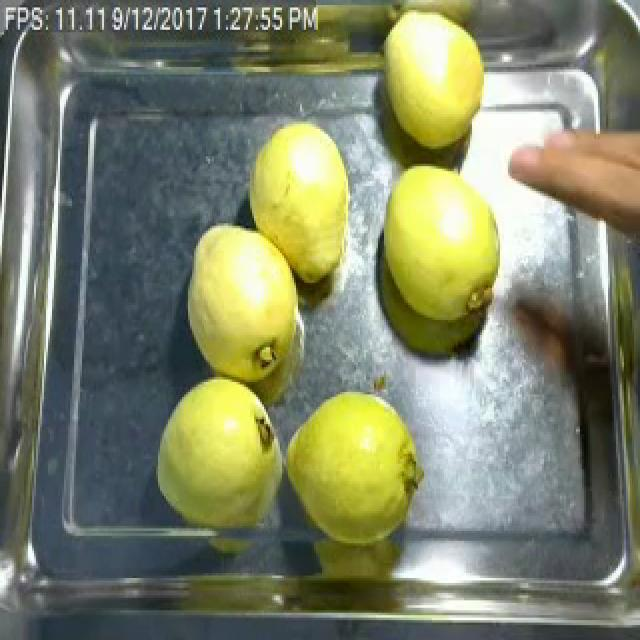Fruit: (278, 380, 430, 553), (372, 152, 514, 328), (148, 370, 292, 540), (178, 213, 308, 392), (240, 112, 360, 290), (498, 104, 640, 251), (368, 0, 498, 159)
